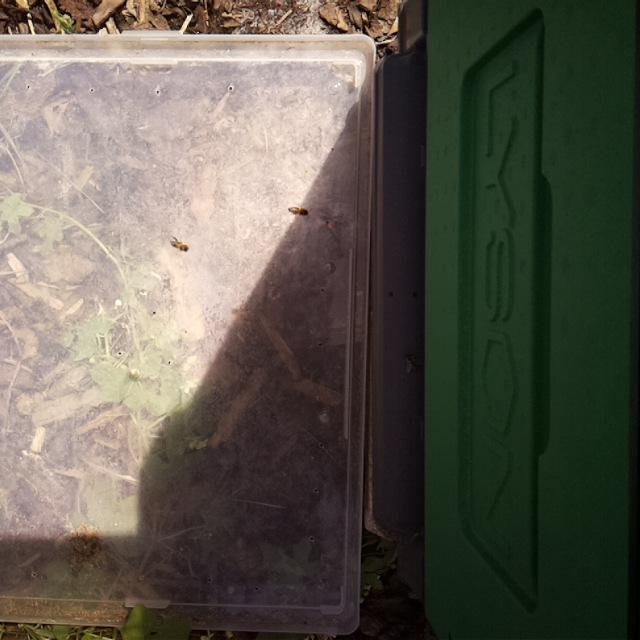worker-bee: (165, 232, 194, 254), (286, 201, 311, 221)
